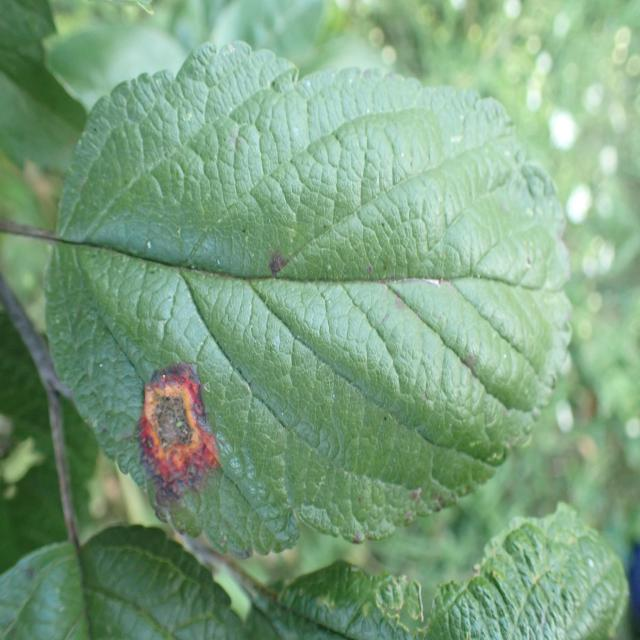Rust: (124, 331, 232, 512)
